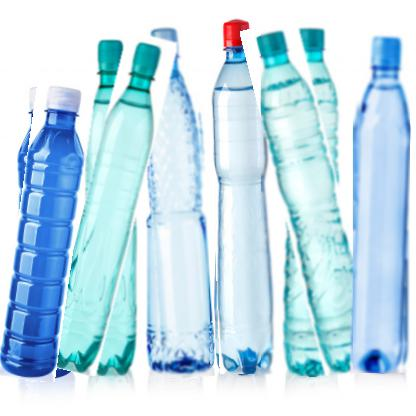plastic-bottles: (262, 20, 362, 378), (67, 33, 159, 378), (8, 77, 87, 383), (146, 21, 211, 379), (212, 16, 276, 376), (354, 30, 412, 375)
